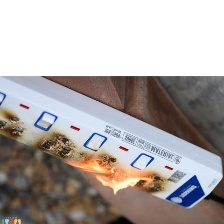three_eye_plug: (0, 65, 224, 211)
